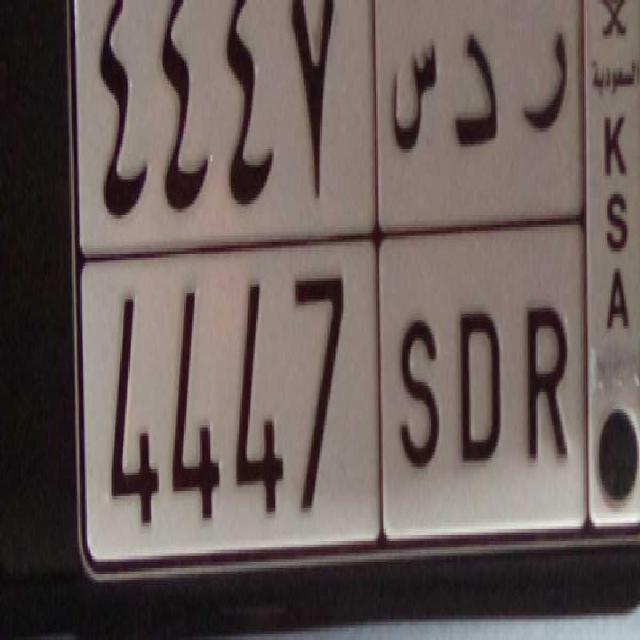license_plate: (84, 222, 584, 562)
